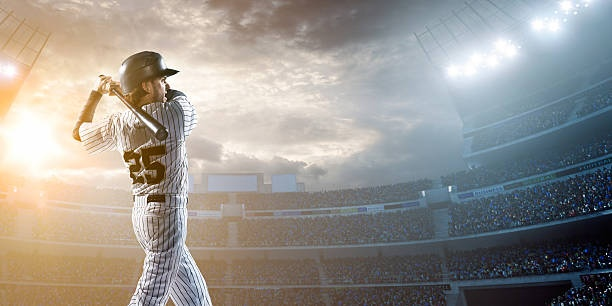bita: (97, 77, 168, 139)
